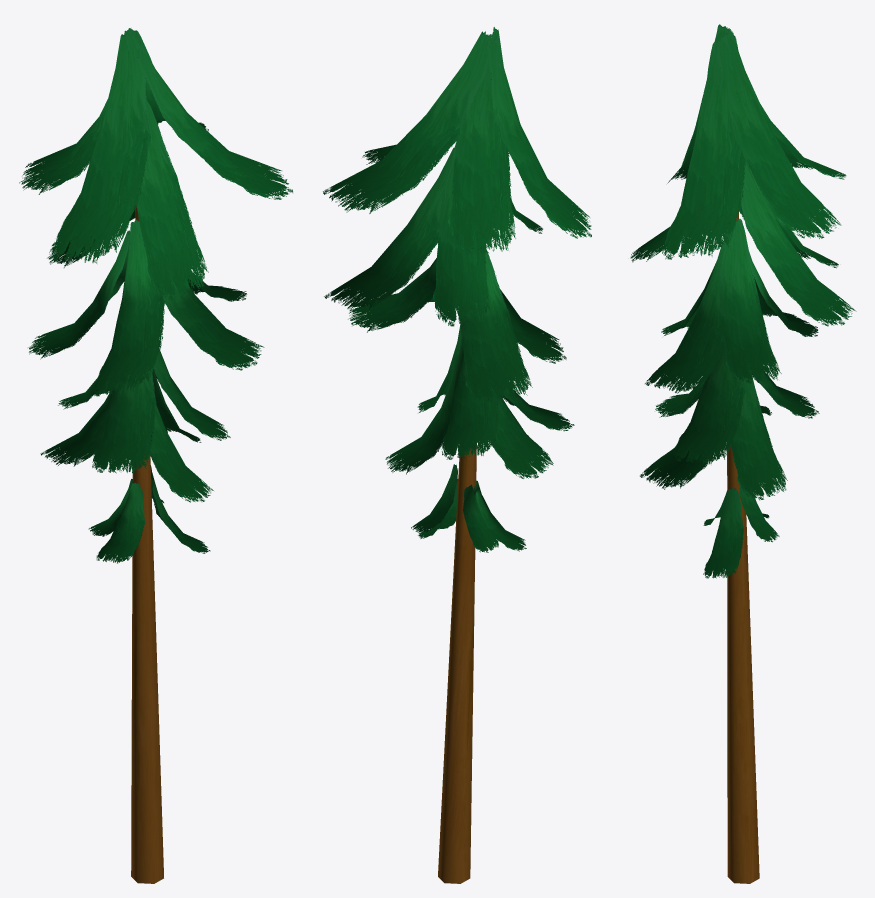
File: SM_Tree2_03.fbx
3 views of the same model, side by side, from view 1: azimuth 30°, elevation 25°; view 2: azimuth 150°, elevation 25°; view 3: azimuth 270°, elevation 25° (orthographic). The views are drawn at different scales.
Visible parts, largest first — view 1: SM_Tree2_03_LOD0; view 2: SM_Tree2_03_LOD0; view 3: SM_Tree2_03_LOD0.
Boxes of the visible parts, box(x1,y1,x2,y2) form: SM_Tree2_03_LOD0: box(19, 28, 292, 883); SM_Tree2_03_LOD0: box(323, 27, 591, 883); SM_Tree2_03_LOD0: box(630, 24, 856, 883).
Size of what is drawn, in the model's own units: 425 by 1501 by 379.
